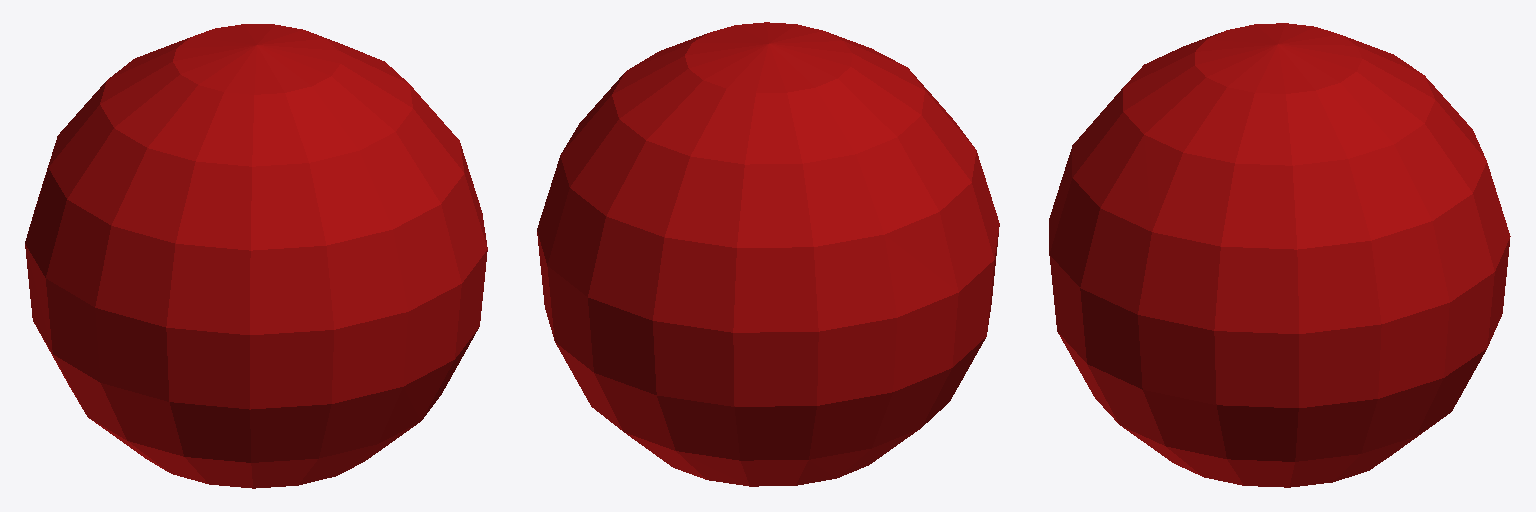
The model's file is wheel.obj.
The picture shows the model from 3 angles: view 1: azimuth 30°, elevation 25°; view 2: azimuth 150°, elevation 25°; view 3: azimuth 270°, elevation 25°; orthographic projection.
Parts seen in each view (by area): view 1: Sphere001; view 2: Sphere001; view 3: Sphere001.
Part boxes in pixels (x1,y1,x2,y2): Sphere001: (25, 24, 487, 488); Sphere001: (537, 22, 999, 486); Sphere001: (1049, 23, 1510, 487).
Size of the model in its own units: 1.28 by 1.29 by 1.27.